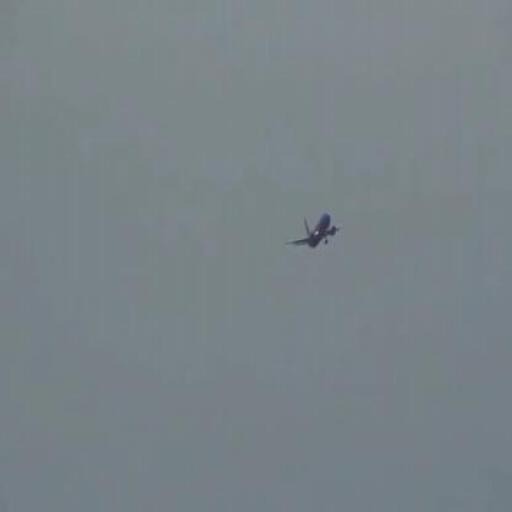aircraft: (286, 211, 339, 248)
